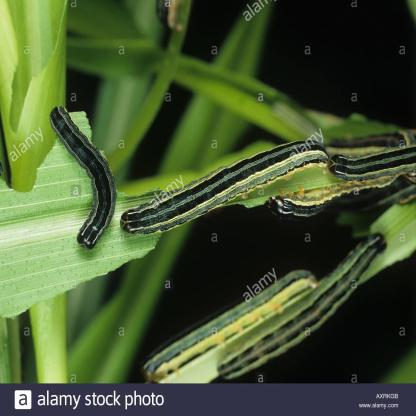armyworm: (216, 230, 392, 378), (111, 138, 337, 236), (137, 264, 318, 380), (47, 102, 118, 254), (263, 176, 416, 223), (327, 144, 416, 181)
